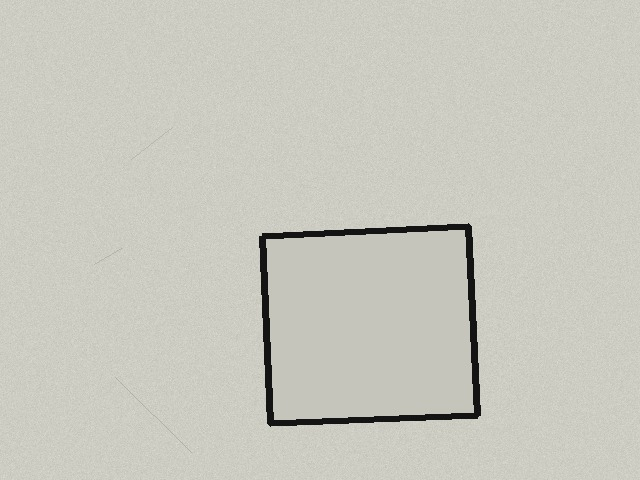parking_area: (262, 226, 477, 423)
